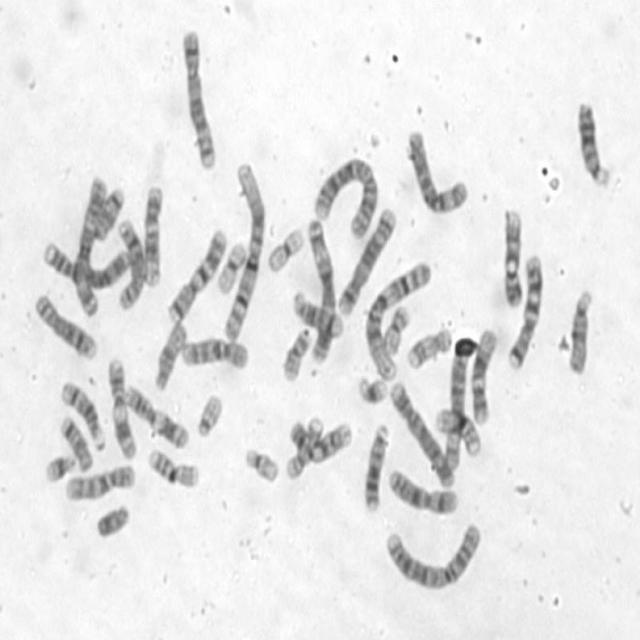A1: (221, 160, 268, 346), (364, 259, 432, 383)
A2: (382, 522, 488, 591), (313, 152, 379, 240)
A3: (72, 177, 108, 320), (305, 219, 337, 364)
B4: (389, 380, 457, 487), (44, 242, 132, 292)
B5: (337, 204, 397, 319), (180, 29, 218, 173)
C10: (62, 462, 136, 503), (180, 337, 251, 371)
C11: (122, 381, 190, 450), (107, 356, 138, 460)
C12: (470, 325, 498, 427), (143, 184, 166, 289)
C6: (408, 128, 469, 215), (442, 354, 468, 472)
C7: (166, 223, 226, 327), (505, 255, 543, 372)
C8: (32, 293, 98, 363), (115, 216, 144, 313)
C9: (287, 418, 353, 467), (500, 209, 524, 309)
D13: (576, 94, 612, 190), (363, 421, 391, 514)
D14: (60, 378, 106, 452), (290, 289, 344, 340)
D15: (154, 318, 191, 394), (568, 288, 593, 377)
E16: (435, 406, 483, 460), (147, 449, 200, 490)
E17: (284, 413, 324, 484), (406, 325, 454, 370)
E18: (57, 413, 95, 472), (91, 186, 125, 242)
F19: (214, 237, 248, 296), (266, 226, 304, 274)
F20: (281, 327, 313, 383), (382, 303, 410, 357)
G21: (356, 373, 389, 406), (44, 455, 78, 484)
G22: (195, 392, 225, 438), (244, 446, 280, 484)
X: (385, 466, 461, 517)
Y: (96, 506, 132, 538)
